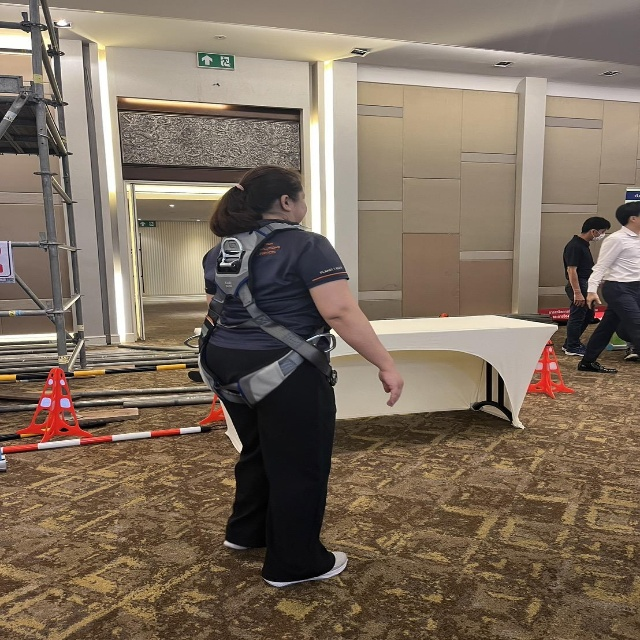Arnes_seguridad: (199, 215, 343, 412)
